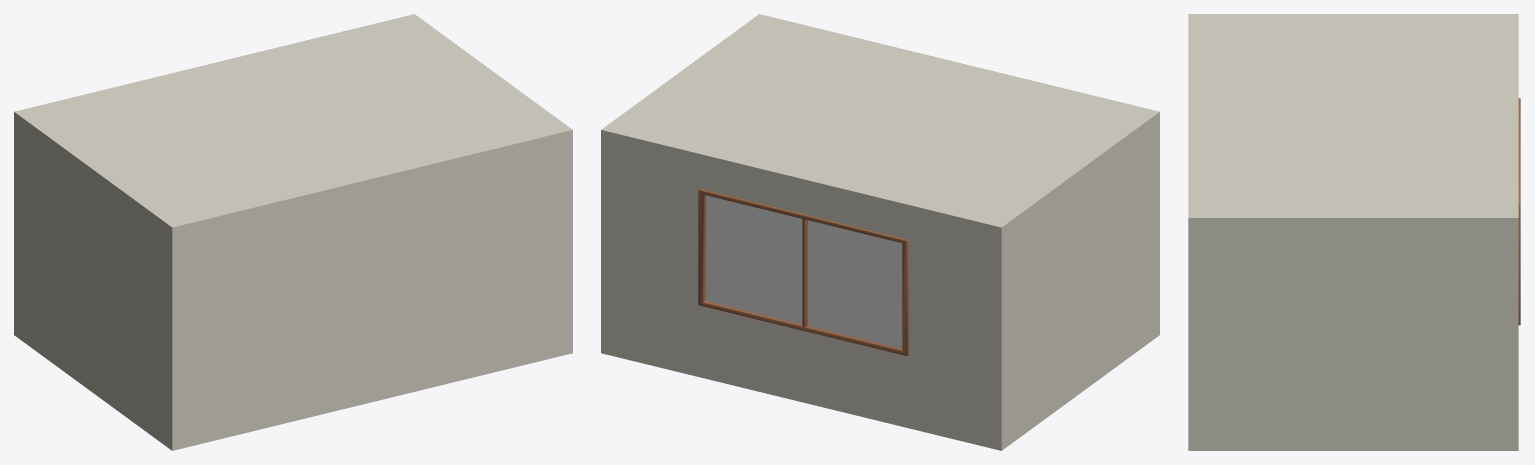
The model's file is Küche.fbx.
The picture shows the model from 3 angles, left to right: view 1: azimuth 30°, elevation 25°; view 2: azimuth 150°, elevation 25°; view 3: azimuth 270°, elevation 25°; orthographic projection. The views are drawn at different scales.
Parts seen in each view (by area): view 1: Raum; view 2: Raum, Fenster_Glas, Fenster_Rahmen; view 3: Raum, Fenster_Rahmen.
Part boxes in pixels (x1,y1,x2,y2): Raum: (14, 14, 572, 450); Raum: (601, 14, 1159, 450); Fenster_Glas: (706, 195, 902, 348); Fenster_Rahmen: (698, 189, 908, 356); Raum: (1188, 14, 1518, 450); Fenster_Rahmen: (1518, 98, 1520, 325).
Bounding box in the file's own units: 3937 × 2098 × 2711.
